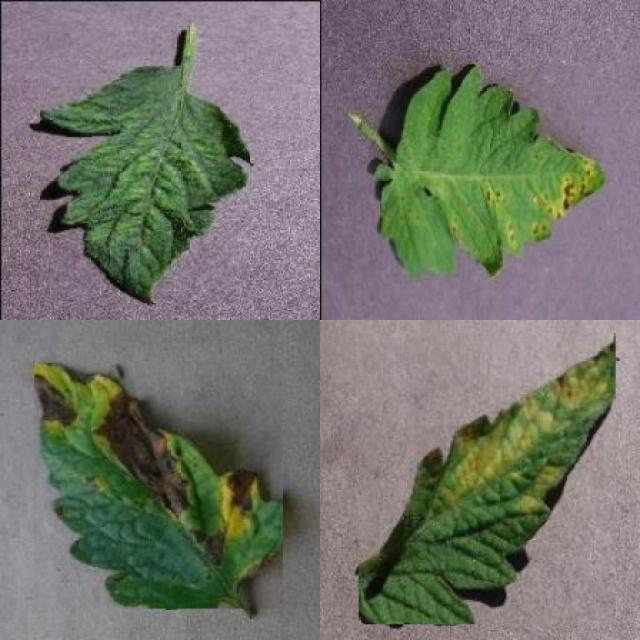Early Blight: (34, 364, 282, 609)
Leaf Mold: (359, 333, 616, 624)
Mosaic Virus: (40, 66, 250, 304)
Septoria: (374, 65, 606, 276)
